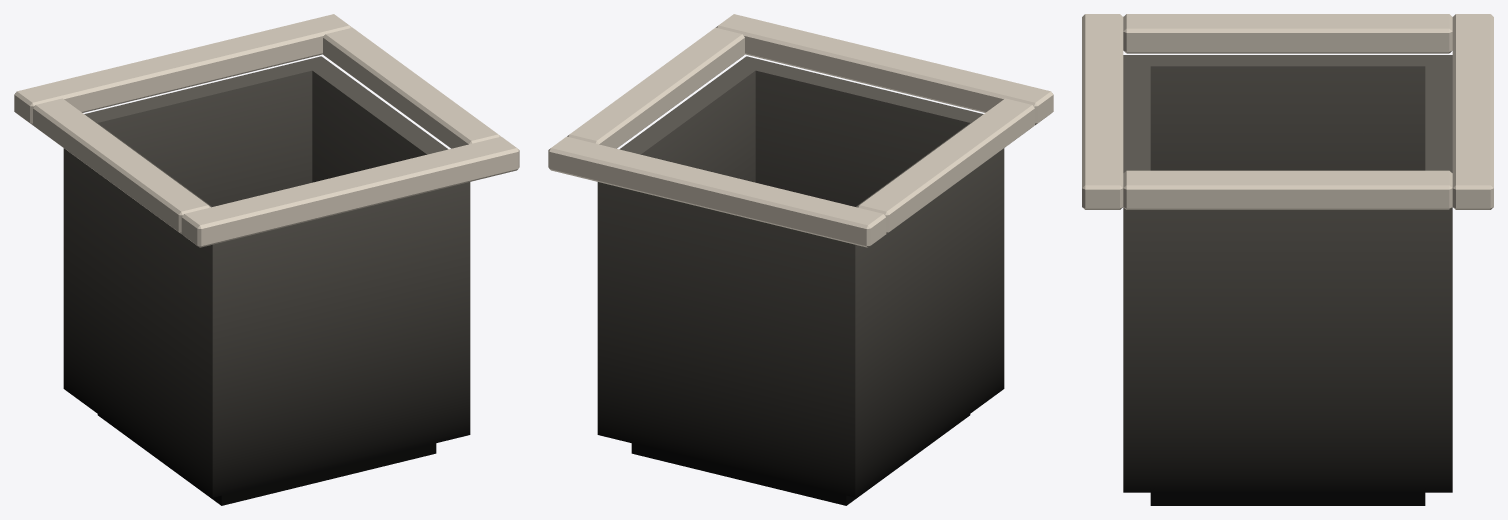
Rendered from SM_VKI_Pit_SpikePit_150.fbx.
3 views of the same model, side by side, from view 1: azimuth 30°, elevation 25°; view 2: azimuth 150°, elevation 25°; view 3: azimuth 270°, elevation 25° (orthographic). The views are drawn at different scales.
Visible parts, largest first — view 1: SM_VKI_Pit_SpikePit_150.001; view 2: SM_VKI_Pit_SpikePit_150.001; view 3: SM_VKI_Pit_SpikePit_150.001.
Boxes of the visible parts, bbox=[...] form: SM_VKI_Pit_SpikePit_150.001: bbox=[14, 14, 519, 505]; SM_VKI_Pit_SpikePit_150.001: bbox=[548, 14, 1053, 505]; SM_VKI_Pit_SpikePit_150.001: bbox=[1082, 14, 1493, 505].
Size of the model in its own units: 1.5 by 1.4 by 1.5.
